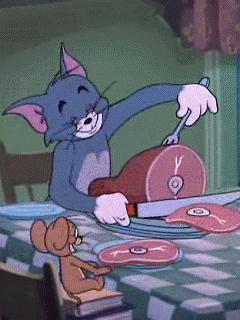jerry: (29, 216, 114, 317)
